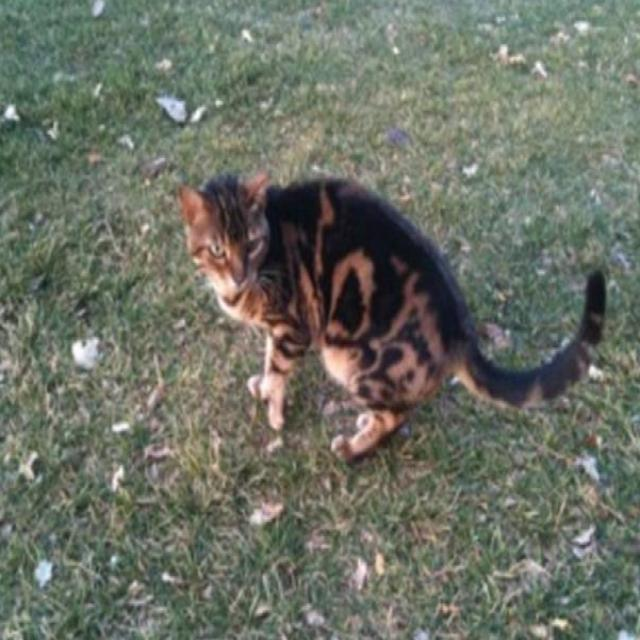Bengal: (172, 156, 626, 494)
